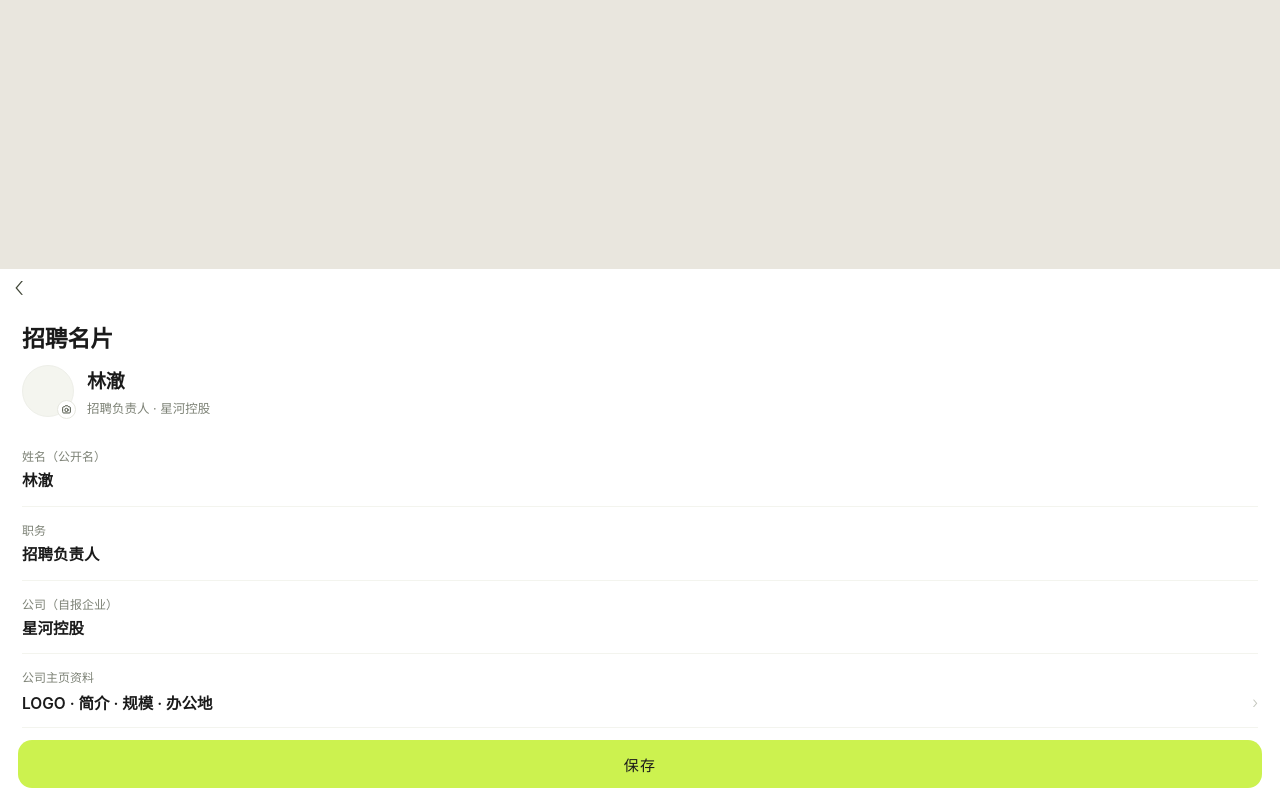
Scenario: 招聘名片 · Backend 诚实身份 › 保存失败保留输入且只给通用校验文案，不泄露服务端 reason
(page scrolled)
Replace the text in the field named "姓名" with "新公开名" at (640, 481), box [22,470,1258,492]
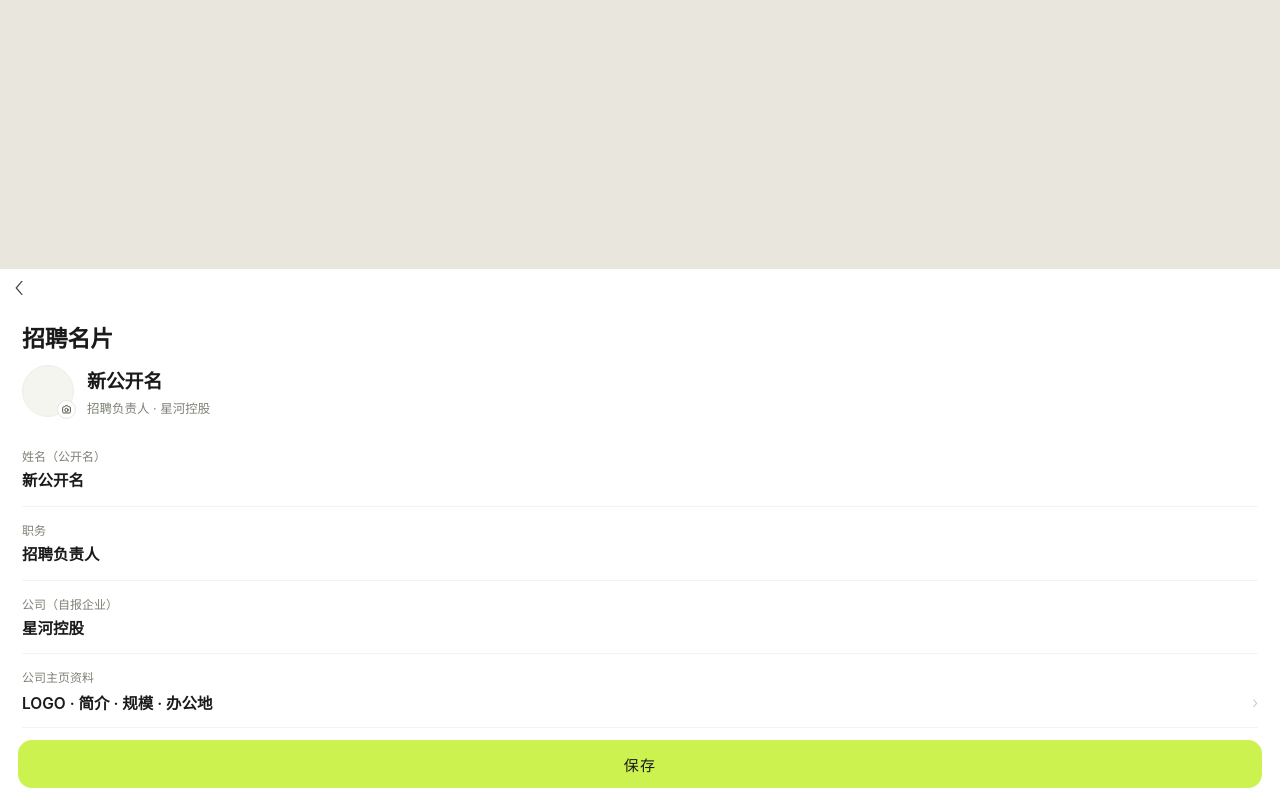
Clear the field named "职务" at (640, 555), box [22,544,1258,566]
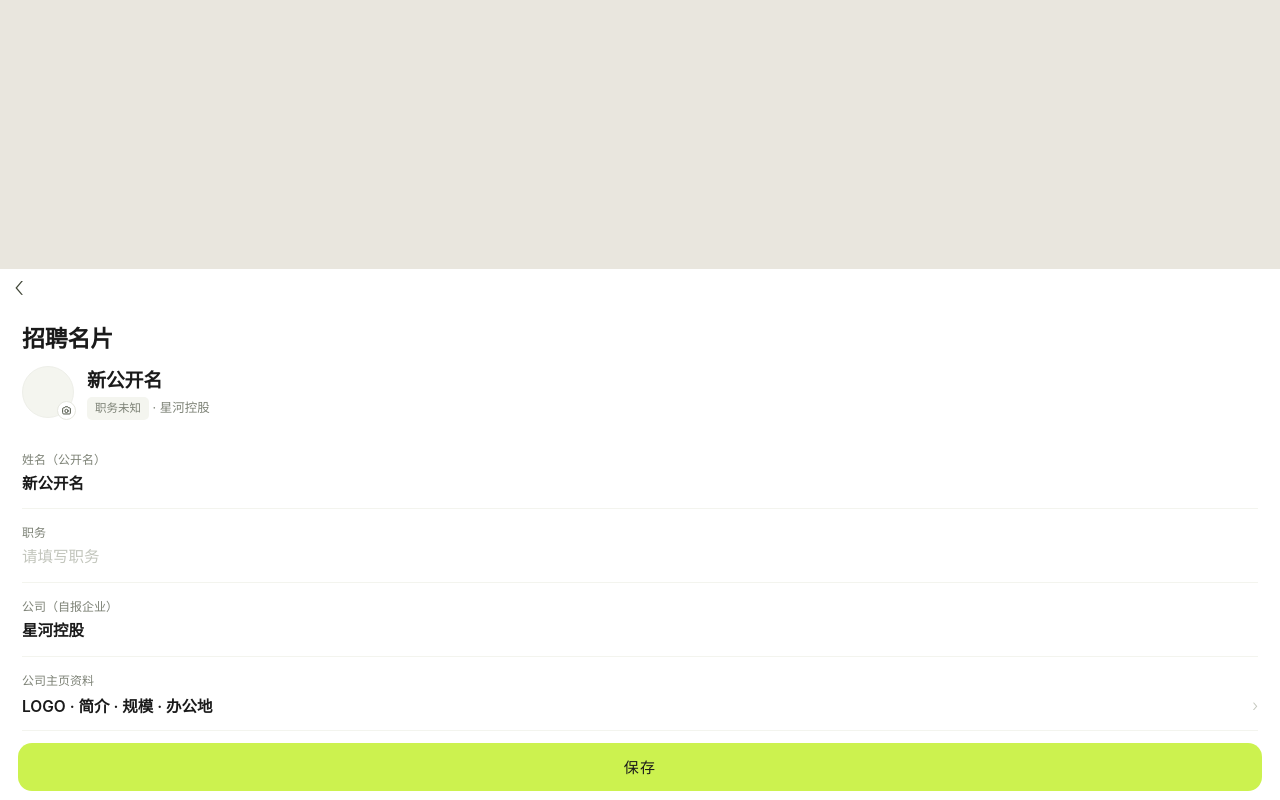
Type "超长职务" into the field labelled "职务" at (640, 557), box [22,546,1258,568]
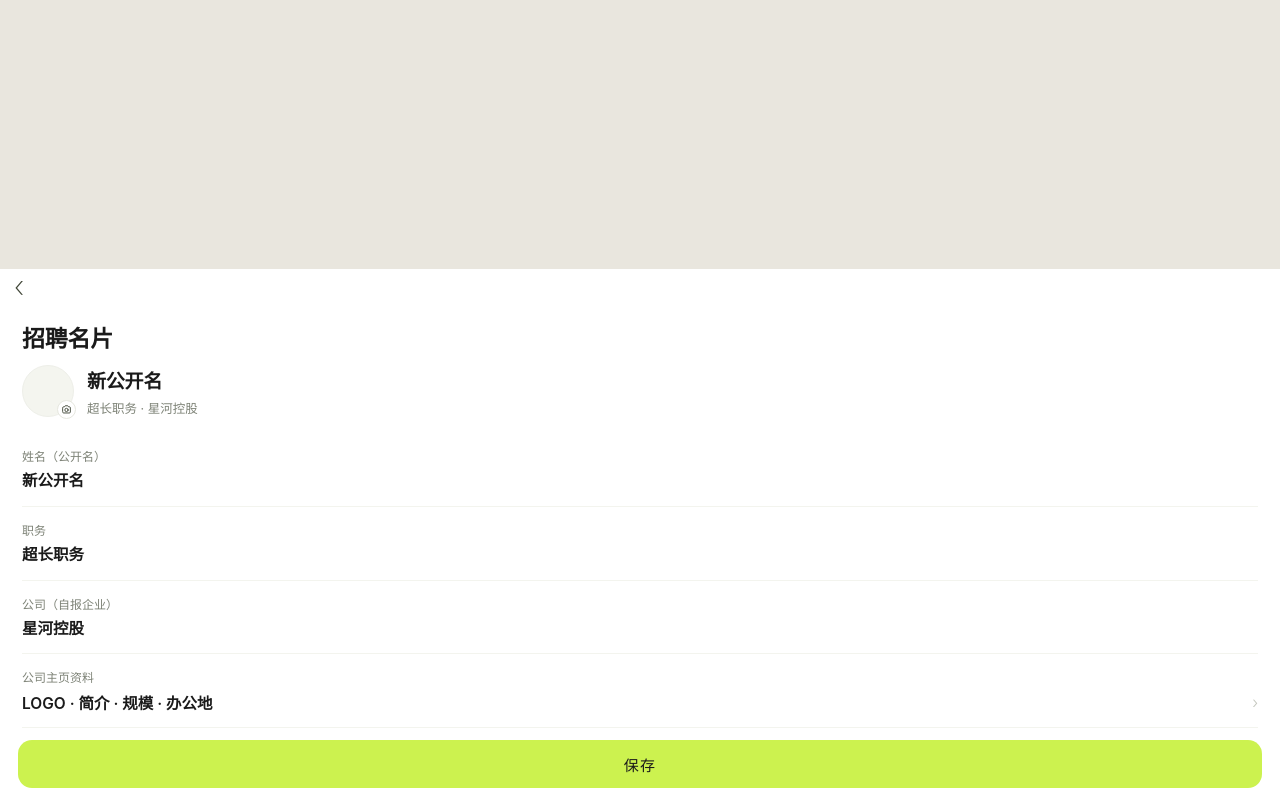
Click the button "保存" at (640, 764), box [18,740,1262,788]
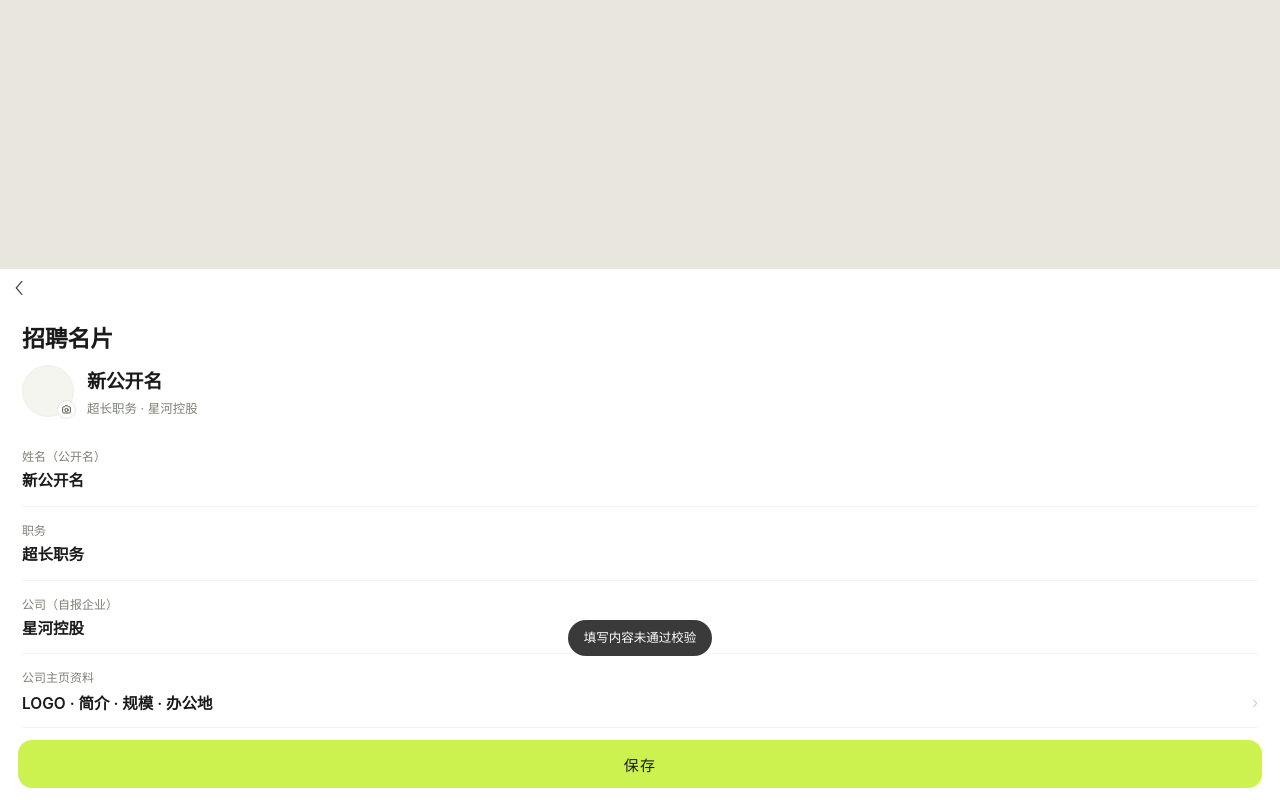
Expected: the text "填写内容未通过校验" is shown, [568,620,712,656]
